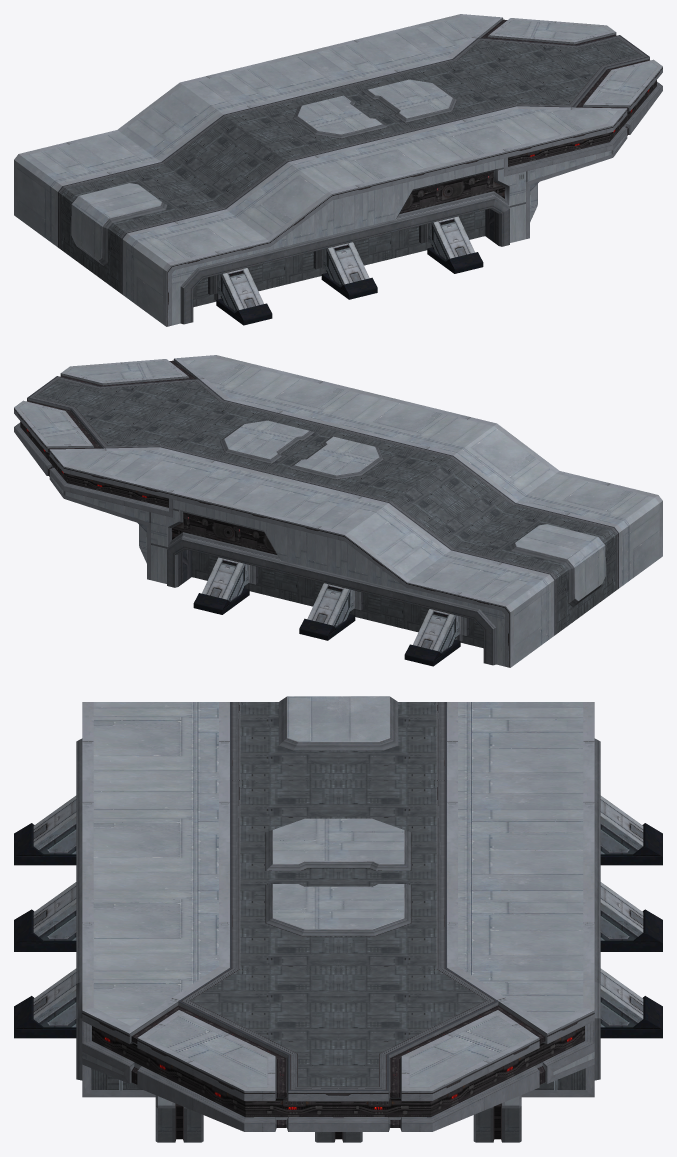
Rendered from all_arch_imp_city_block_bldg_roof_04.glb.
The picture shows the model from 3 angles, top to bottom: view 1: azimuth 30°, elevation 25°; view 2: azimuth 150°, elevation 25°; view 3: azimuth 270°, elevation 25°; orthographic projection. The views are drawn at different scales.
Parts seen in each view (by area): view 1: all_arch_imp_city_block_bldg_roof_04; view 2: all_arch_imp_city_block_bldg_roof_04; view 3: all_arch_imp_city_block_bldg_roof_04.
Part boxes in pixels (bbox=[...]): all_arch_imp_city_block_bldg_roof_04: bbox=[14, 14, 662, 326]; all_arch_imp_city_block_bldg_roof_04: bbox=[14, 355, 662, 667]; all_arch_imp_city_block_bldg_roof_04: bbox=[14, 696, 662, 1142].
Bounding box in the file's own units: 10.77 × 2.15 × 6.57.
Materials: 6 (6 with a texture image).
